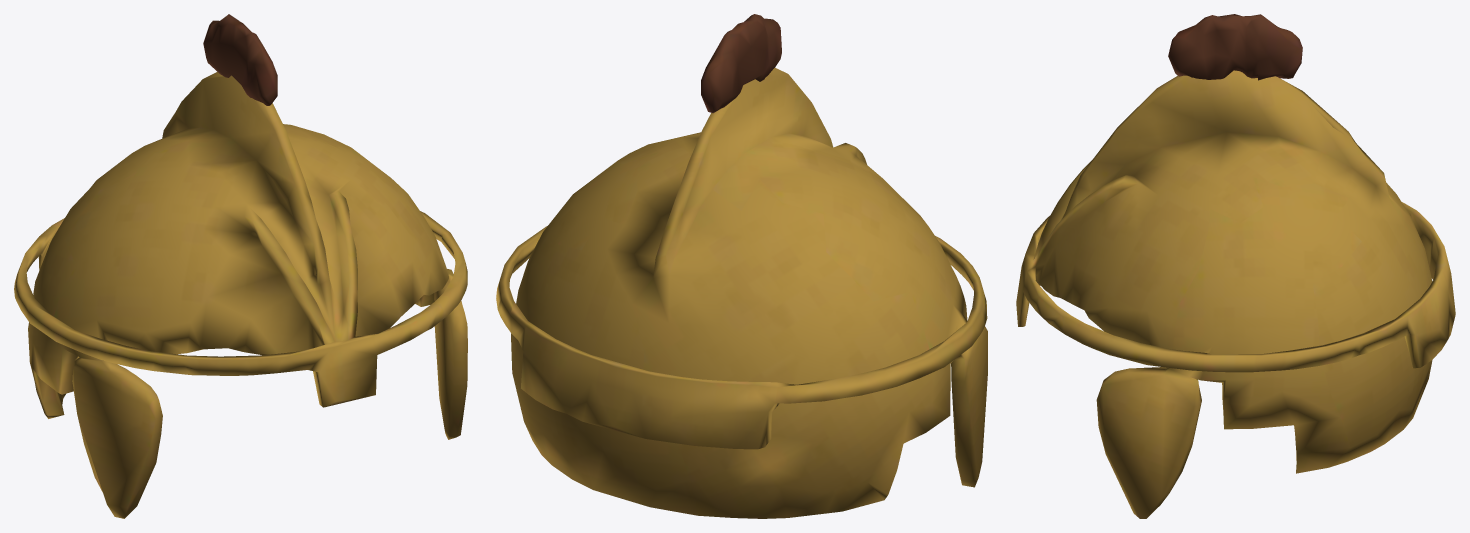
Rendered from gladiator-helmet.glb.
3 renders of one model, left to right at view 1: azimuth 30°, elevation 25°; view 2: azimuth 150°, elevation 25°; view 3: azimuth 270°, elevation 25°, orthographic. The views are drawn at different scales.
Visible parts, largest first — view 1: helmet; view 2: helmet; view 3: helmet.
Part boxes in pixels (left/top/right/bottom): helmet: left=14, top=14, right=467, bottom=518; helmet: left=496, top=14, right=987, bottom=518; helmet: left=1016, top=14, right=1455, bottom=518.
Bounding box in the file's own units: 0.4777 × 0.4828 × 0.4546.
Materials: 1 (1 with a texture image).
